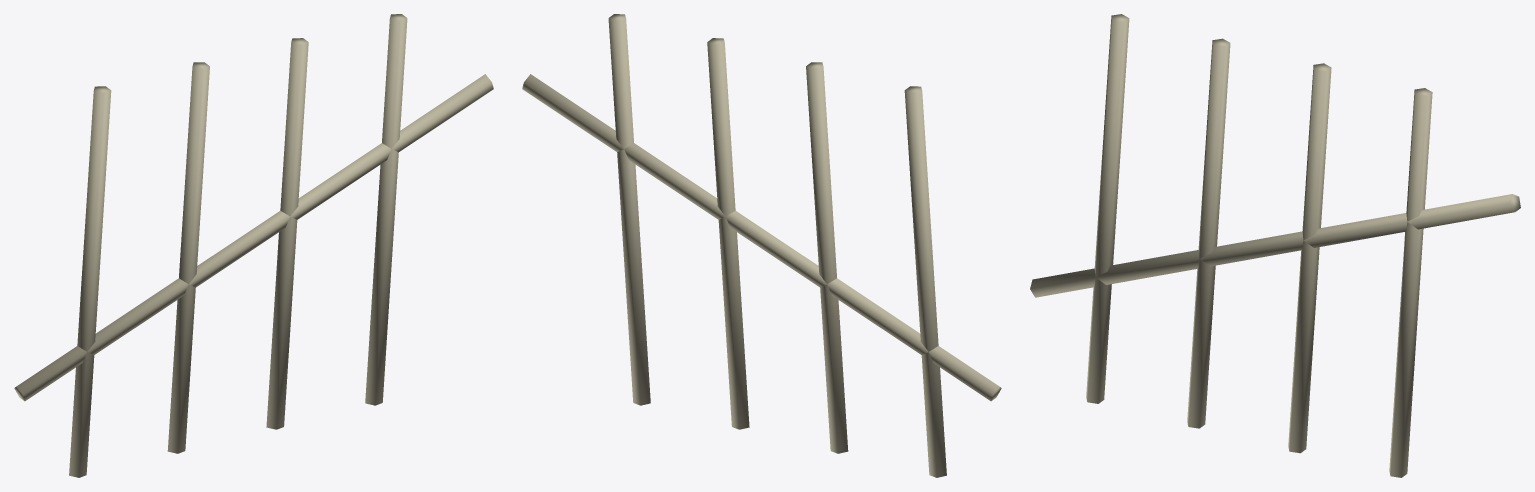
Rendered from chalk-tally.glb.
The picture shows the model from 3 angles, left to right: view 1: azimuth 30°, elevation 25°; view 2: azimuth 150°, elevation 25°; view 3: azimuth 330°, elevation 25°; orthographic projection. The views are drawn at different scales.
Visible parts, largest first — view 1: Surface; view 2: Surface; view 3: Surface.
Boxes of the visible parts, box(x1,y1,x2,y2) form: Surface: box(14, 14, 493, 477); Surface: box(522, 14, 1001, 477); Surface: box(1030, 14, 1520, 477).
Size of the model in its own units: 0.5768 by 0.4412 by 0.019.
